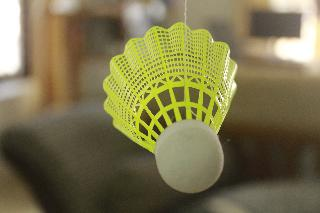shuttlecock: (102, 22, 236, 191)
